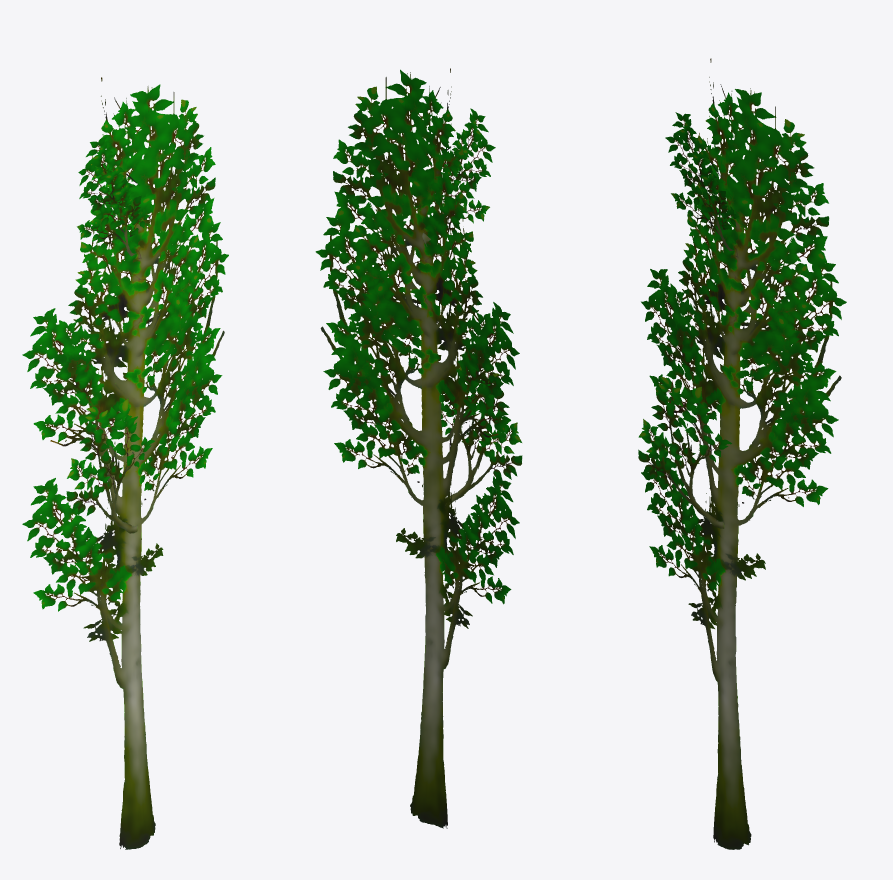
The model's file is street_vegetation_park_tree_topol_2.FBX.
The picture shows the model from 3 angles, left to right: view 1: azimuth 30°, elevation 25°; view 2: azimuth 150°, elevation 25°; view 3: azimuth 330°, elevation 25°; orthographic projection.
Visible parts, largest first — view 1: street_vegetation_park_tree_topol_2; view 2: street_vegetation_park_tree_topol_2; view 3: street_vegetation_park_tree_topol_2.
Part boxes in pixels (left/top/right/bottom): street_vegetation_park_tree_topol_2: left=22, top=77, right=228, bottom=849; street_vegetation_park_tree_topol_2: left=315, top=68, right=522, bottom=828; street_vegetation_park_tree_topol_2: left=638, top=58, right=846, bottom=849.
Size of the model in its own units: 2764 by 8141 by 457.
Materials: 1 (1 with a texture image).
